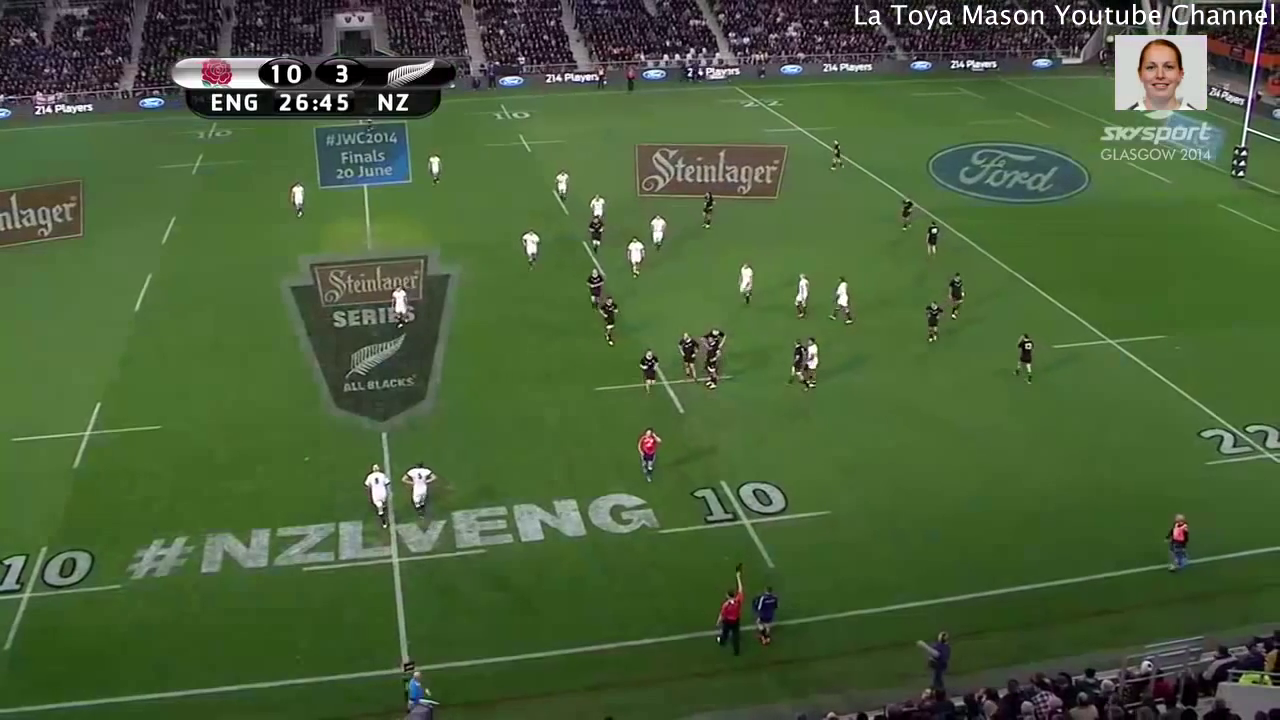10_metre: (648, 471, 841, 576), (1, 537, 129, 657), (1, 393, 166, 471), (588, 346, 742, 418), (154, 149, 255, 180), (169, 118, 265, 145), (477, 129, 573, 155), (464, 100, 552, 123)
player: (396, 453, 440, 531), (355, 457, 398, 535), (1005, 328, 1041, 392), (631, 421, 662, 487), (823, 269, 857, 329), (672, 325, 703, 390), (782, 334, 813, 398), (699, 331, 726, 395), (631, 344, 662, 399), (595, 292, 622, 354), (384, 277, 412, 334), (941, 268, 970, 323), (790, 266, 815, 325), (919, 297, 946, 351), (622, 232, 649, 285), (799, 333, 823, 392), (517, 223, 543, 275), (731, 256, 757, 308), (284, 175, 311, 221), (421, 148, 448, 191), (695, 186, 719, 233), (583, 265, 606, 314), (921, 217, 945, 263), (644, 208, 668, 253), (698, 322, 735, 351), (895, 189, 917, 237), (584, 213, 606, 258), (825, 134, 848, 177), (584, 192, 611, 225), (552, 166, 573, 206)
post: (1219, 48, 1280, 188)
